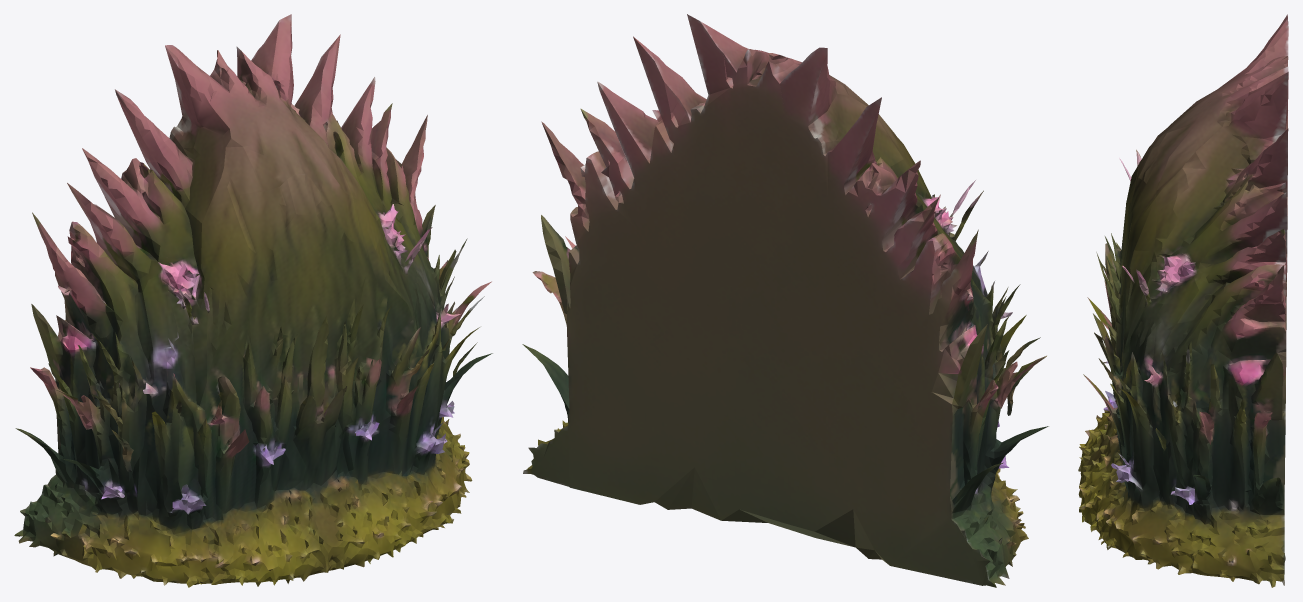
File: flowers.glb
3 views of the same model, side by side, from view 1: azimuth 30°, elevation 25°; view 2: azimuth 150°, elevation 25°; view 3: azimuth 270°, elevation 25° (orthographic). The views are drawn at different scales.
Visible parts, largest first — view 1: Rodin_flowers; view 2: Rodin_flowers; view 3: Rodin_flowers.
Part boxes in pixels (x1=…): Rodin_flowers: x1=14, y1=14, x2=492, y2=587; Rodin_flowers: x1=522, y1=14, x2=1048, y2=587; Rodin_flowers: x1=1078, y1=14, x2=1288, y2=587.
Bounding box in the file's own units: 1.85 × 1.89 × 0.7907.
1 material, 1 textured.
